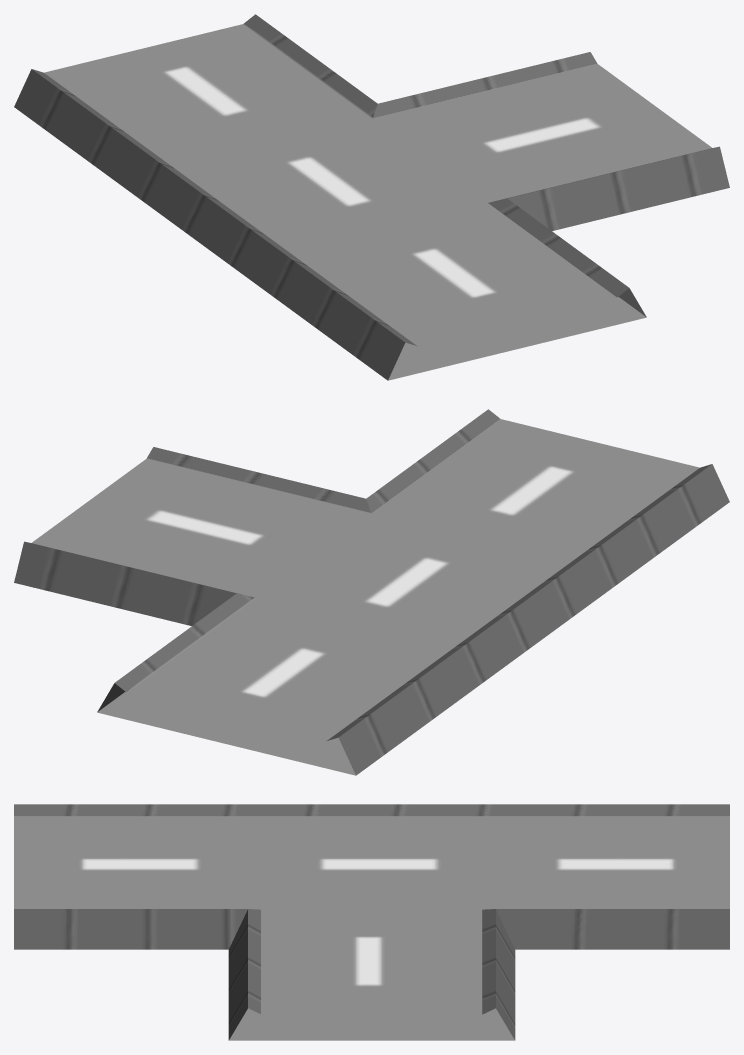
The model's file is co_Street_Asphalted_B_ExitT.fbx.
3 renders of one model, top to bottom at view 1: azimuth 30°, elevation 25°; view 2: azimuth 150°, elevation 25°; view 3: azimuth 270°, elevation 25°, orthographic. The views are drawn at different scales.
Parts seen in each view (by area): view 1: Street_Asphalted_B_ExitT; view 2: Street_Asphalted_B_ExitT; view 3: Street_Asphalted_B_ExitT.
Part boxes in pixels (x1,y1,x2,y2): Street_Asphalted_B_ExitT: [14, 14, 729, 380]; Street_Asphalted_B_ExitT: [14, 409, 729, 775]; Street_Asphalted_B_ExitT: [14, 804, 729, 1040].
Size of the model in its own units: 1753 by 125 by 2500.
